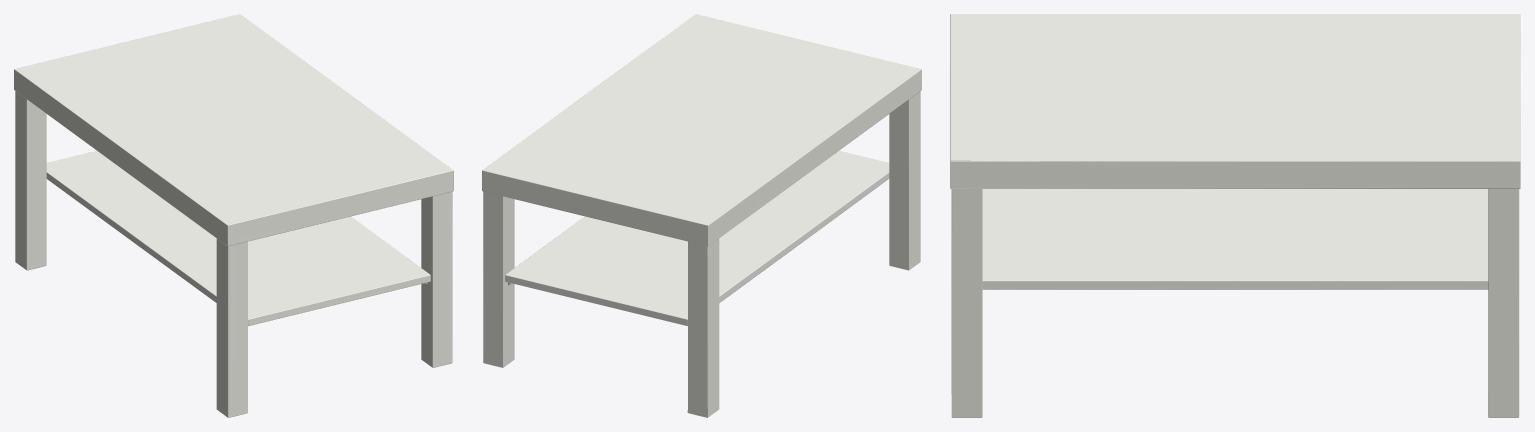
The model's file is LACK_90449905.glb.
3 views of the same model, side by side, from view 1: azimuth 30°, elevation 25°; view 2: azimuth 150°, elevation 25°; view 3: azimuth 270°, elevation 25° (orthographic). The views are drawn at different scales.
Visible parts, largest first — view 1: model; view 2: model; view 3: model.
Part boxes in pixels (x1,y1,x2,y2): model: (14, 14, 453, 417); model: (482, 14, 921, 417); model: (950, 14, 1520, 417).
Size of the model in its own units: 0.55 by 0.449 by 0.9.
1 material, 1 textured.
